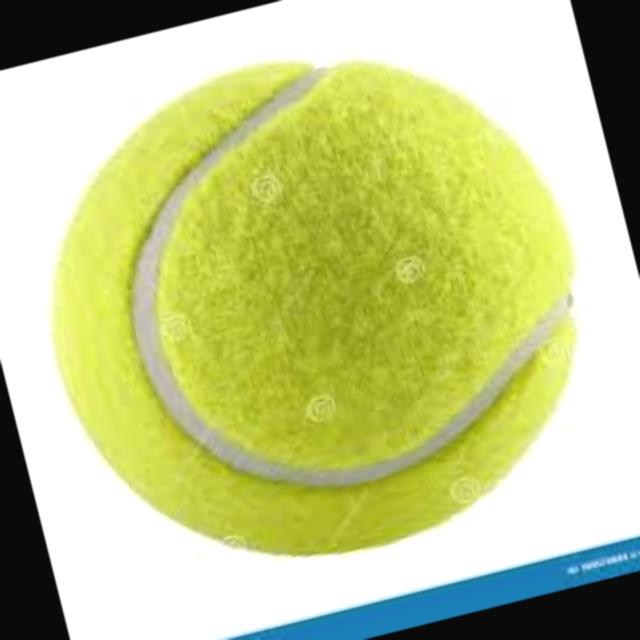Tennis Ball: (47, 58, 583, 558)
